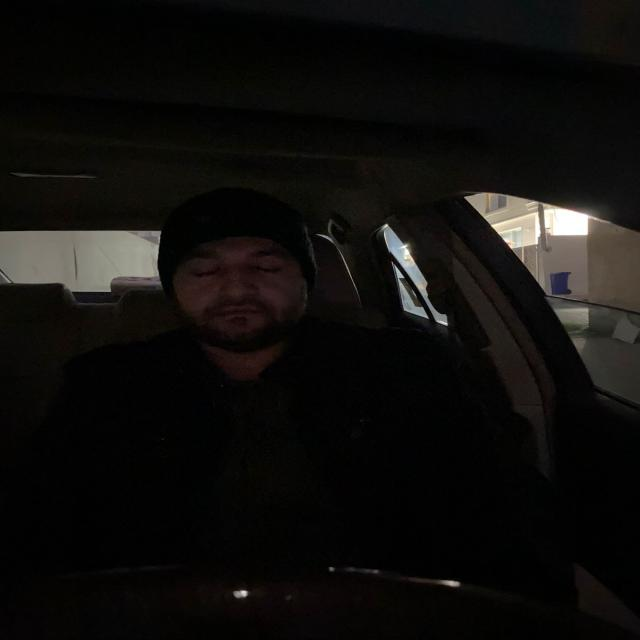drowsy: (146, 186, 324, 355)
